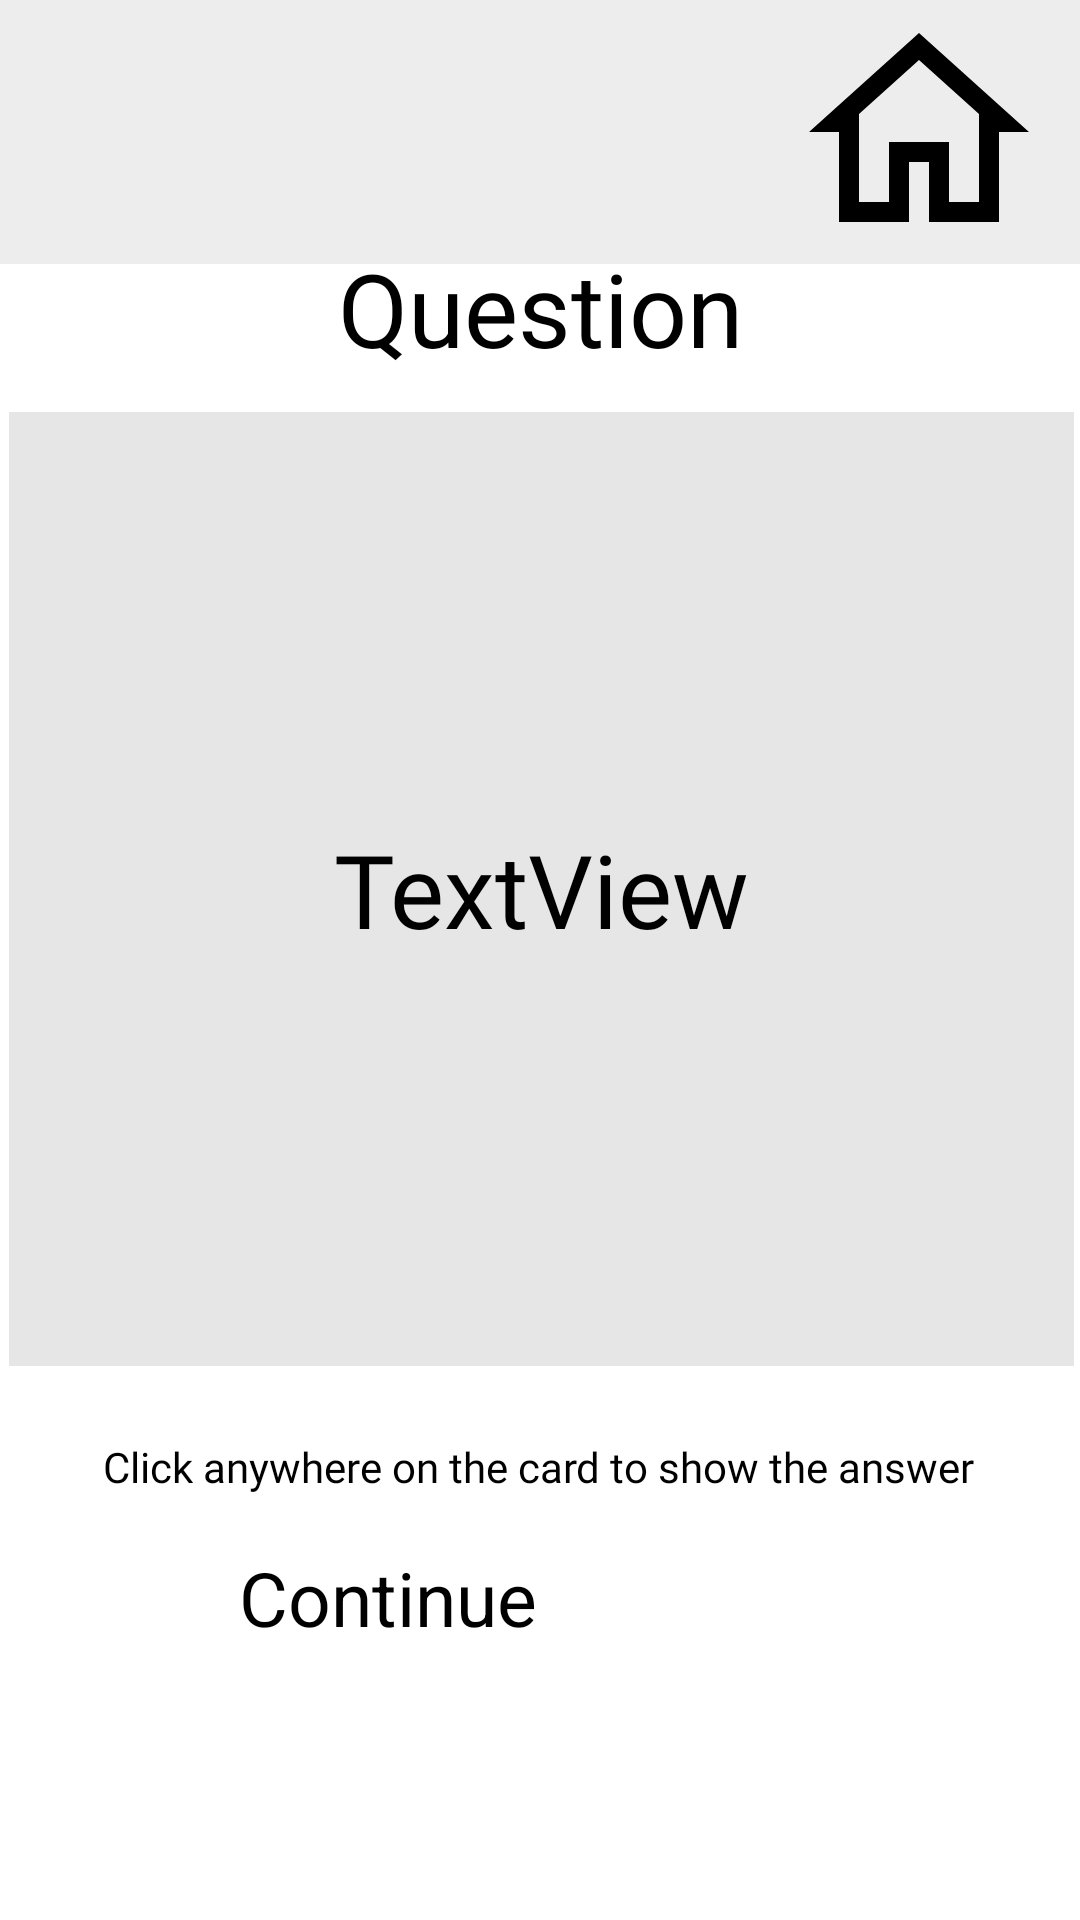

Locate icon controls on the screen. Image size 1080 × 1920, boxes as detection(x1, y1, x2, y2).
home: detection(809, 33, 1029, 222)
